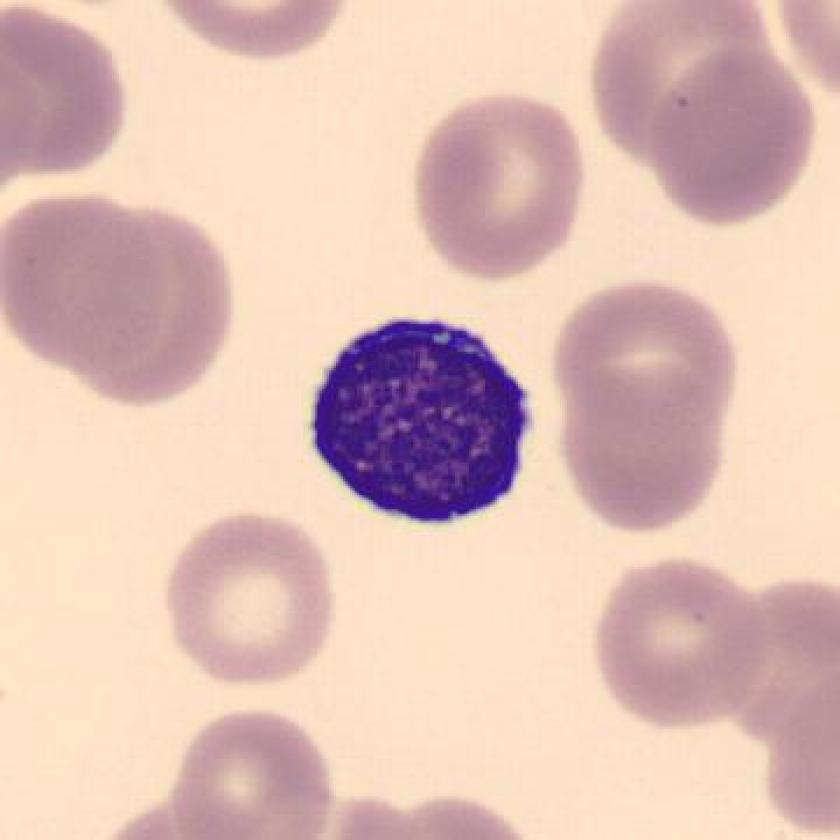lymphocyte: (302, 307, 549, 547)
